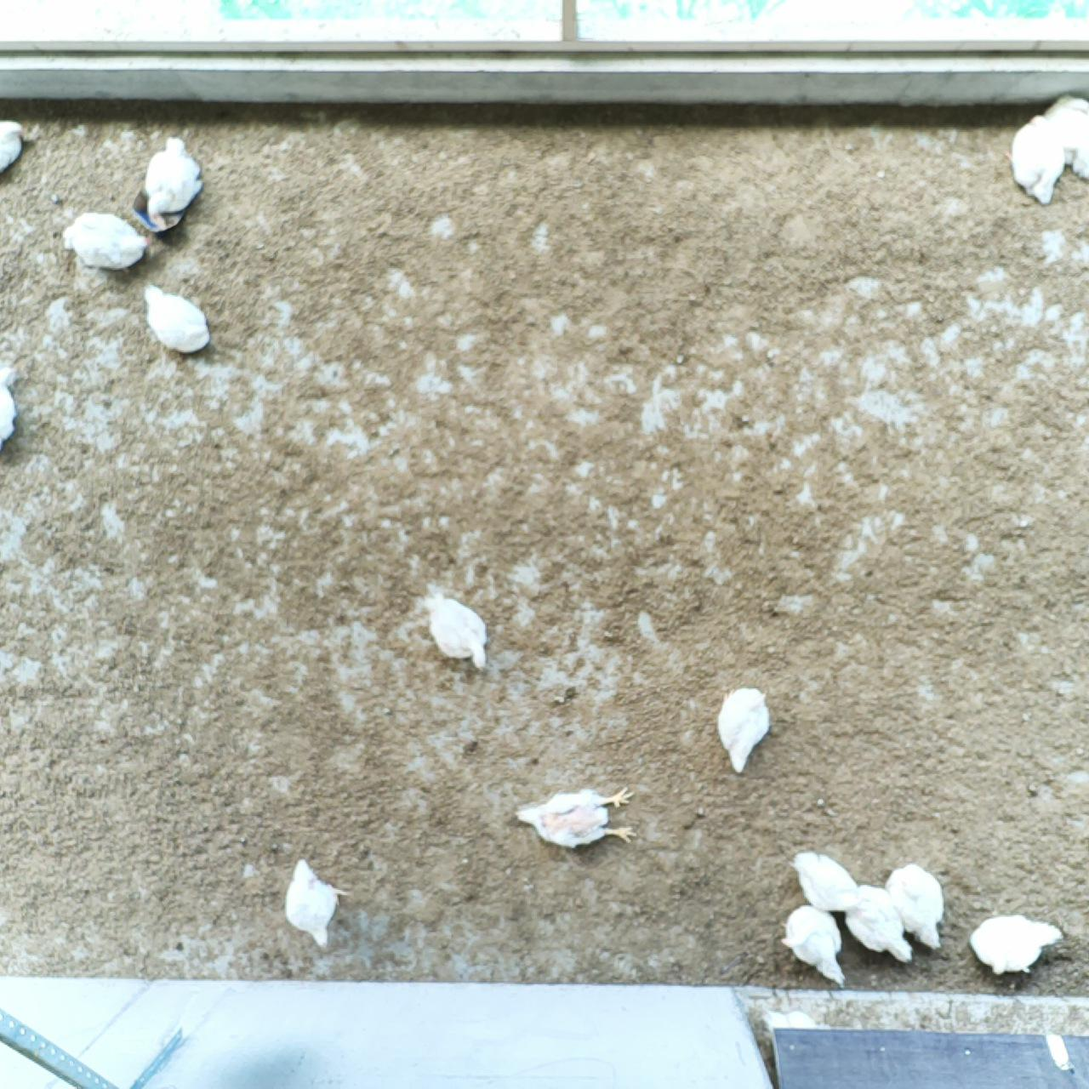chicken: (507, 784, 640, 848), (841, 875, 917, 966), (966, 911, 1065, 980), (285, 850, 350, 952), (775, 899, 849, 988), (1002, 110, 1067, 206), (415, 586, 491, 667), (141, 135, 202, 233), (60, 209, 149, 271), (887, 862, 949, 951), (787, 847, 861, 917), (143, 276, 209, 354), (717, 683, 773, 774), (1043, 94, 1089, 183), (0, 113, 39, 181), (0, 356, 19, 447)
